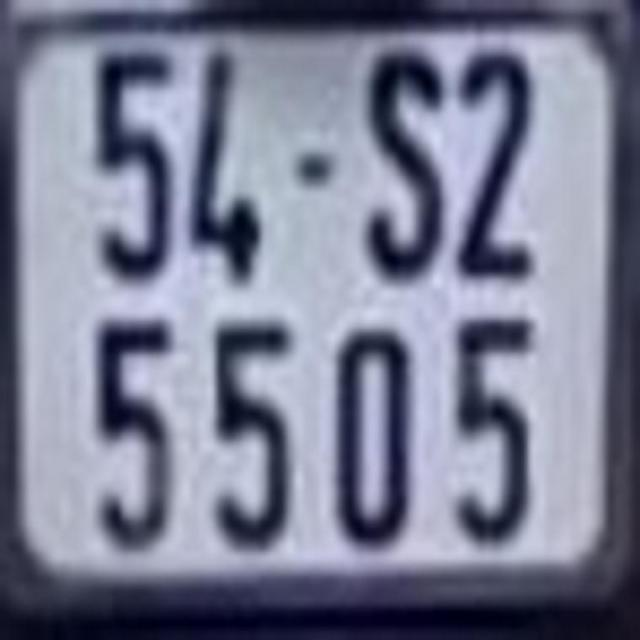0: (336, 324, 420, 543)
2: (466, 54, 538, 278)
4: (194, 57, 268, 290)
5: (456, 310, 548, 556), (94, 310, 174, 546), (212, 320, 296, 544), (94, 49, 171, 273)
S: (373, 45, 443, 282)
